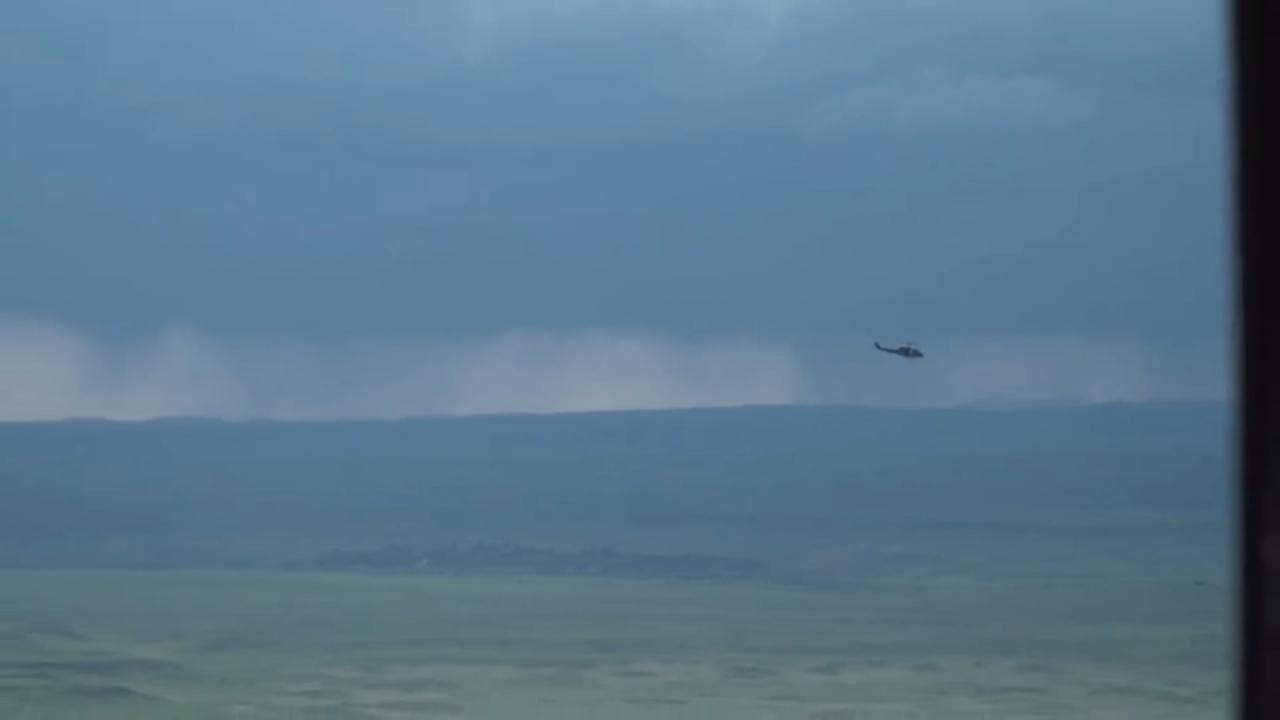Helicopter: (844, 312, 959, 383)
